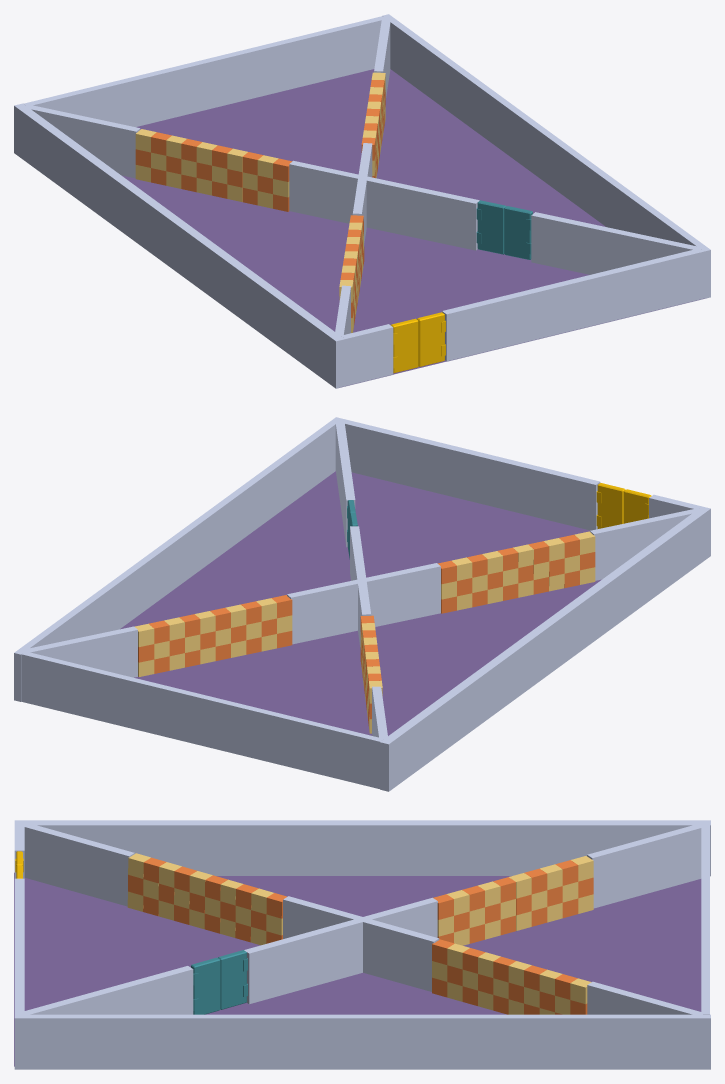
Rendered from maps30.fbx.
3 renders of one model, top to bottom at view 1: azimuth 30°, elevation 25°; view 2: azimuth 150°, elevation 25°; view 3: azimuth 270°, elevation 25°, orthographic. The views are drawn at different scales.
Visible parts, largest first — view 1: wall_01_08_geo, wall_01_07_geo, wall_01_09_geo, wall_01_06_geo, wall_01_05_geo, polySurface187, polySurface185, polySurface186, wall_01_05_geo1, polySurface2, polySurface6, polySurface161 (+4 smaller); view 2: wall_01_08_geo, wall_01_07_geo, wall_01_09_geo, wall_01_06_geo, wall_01_05_geo, polySurface190, polySurface188, polySurface189, polySurface185, polySurface187, polySurface161, polySurface165 (+2 smaller); view 3: wall_01_08_geo, wall_01_06_geo, wall_01_07_geo, polySurface187, polySurface186, polySurface189, polySurface190, polySurface185, polySurface188, wall_01_09_geo, wall_01_05_geo, polySurface6 (+5 smaller).
Boxes of the visible parts, x1,y1,x2,y2 form: wall_01_08_geo: (122,69,706,387); wall_01_07_geo: (14,103,344,388); wall_01_09_geo: (23,16,385,127); wall_01_06_geo: (382,14,710,298); wall_01_05_geo: (442,248,703,361); polySurface187: (289,160,479,250); polySurface185: (531,212,698,274); polySurface186: (24,105,140,178); wall_01_05_geo1: (341,324,393,386); polySurface2: (476,200,505,254); polySurface6: (504,206,532,259); polySurface161: (417,312,445,366); wall_01_08_geo: (120,471,601,735); wall_01_07_geo: (380,506,710,791); wall_01_09_geo: (21,651,383,788); wall_01_06_geo: (14,417,342,701); wall_01_05_geo: (339,419,600,530); polySurface190: (287,563,440,644); polySurface188: (23,626,137,677); polySurface189: (590,508,698,580); polySurface185: (335,421,355,547); polySurface187: (350,526,371,648); polySurface161: (596,483,625,528); polySurface165: (624,489,651,523); wall_01_08_geo: (14,872,701,1066); wall_01_06_geo: (14,1014,710,1069); wall_01_07_geo: (14,820,710,876); polySurface187: (244,897,437,1004); polySurface186: (587,825,704,908); polySurface189: (21,823,134,906); polySurface190: (283,896,439,991); polySurface185: (22,966,193,1015); polySurface188: (587,981,704,1014); wall_01_09_geo: (701,825,709,1014); wall_01_05_geo: (14,878,24,1014); polySurface6: (191,957,220,1014).
Bounding box in the file's own units: 73.34 × 9.25 × 109.
3 materials, 3 textured.
